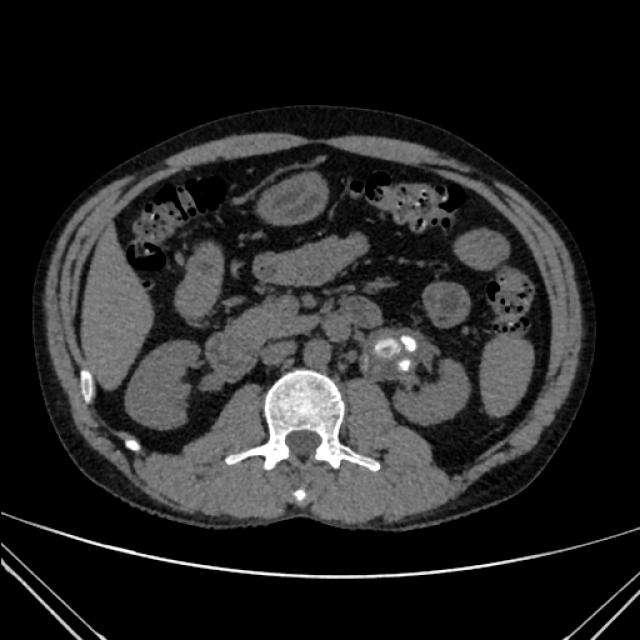kidneystone: (604, 596, 640, 640), (374, 338, 401, 365), (401, 335, 418, 352), (628, 578, 640, 593), (398, 359, 411, 372)
